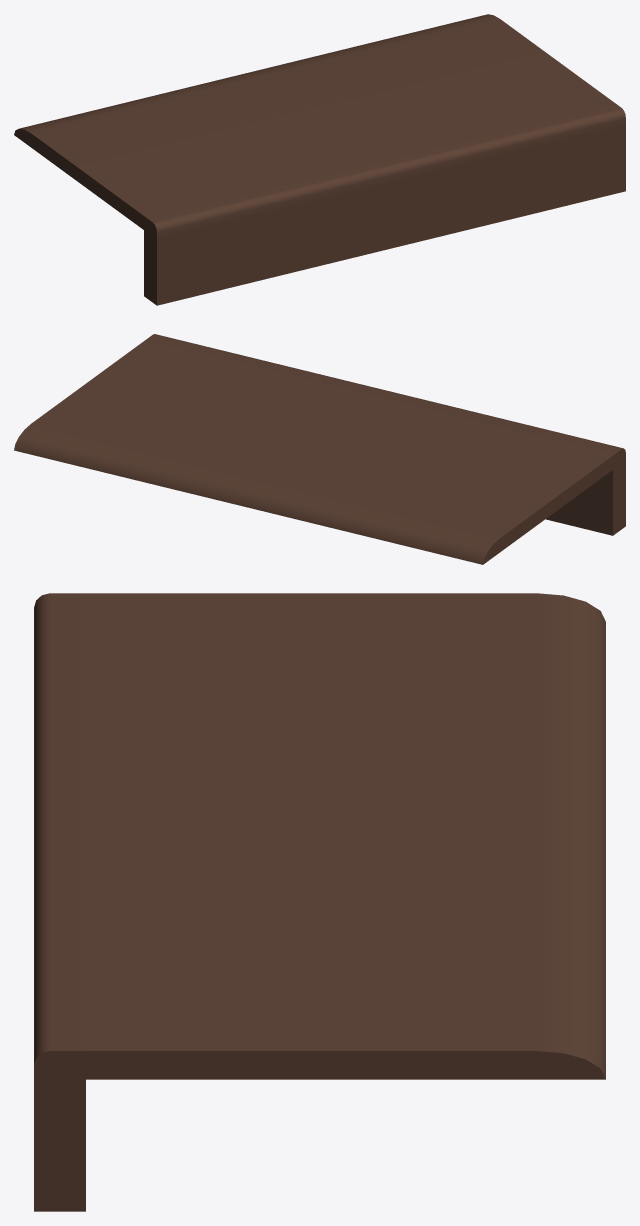
The model's file is SM_short_serving_table.fbx.
3 views of the same model, one above another, from view 1: azimuth 30°, elevation 25°; view 2: azimuth 150°, elevation 25°; view 3: azimuth 270°, elevation 25° (orthographic). The views are drawn at different scales.
Parts seen in each view (by area): view 1: short_serving_table; view 2: short_serving_table; view 3: short_serving_table.
Part boxes in pixels (x1,y1,x2,y2): short_serving_table: (14,14,625,305); short_serving_table: (14,334,625,564); short_serving_table: (34,593,605,1211).
Size of the model in its own units: 72.75 by 11.9 by 38.41.
